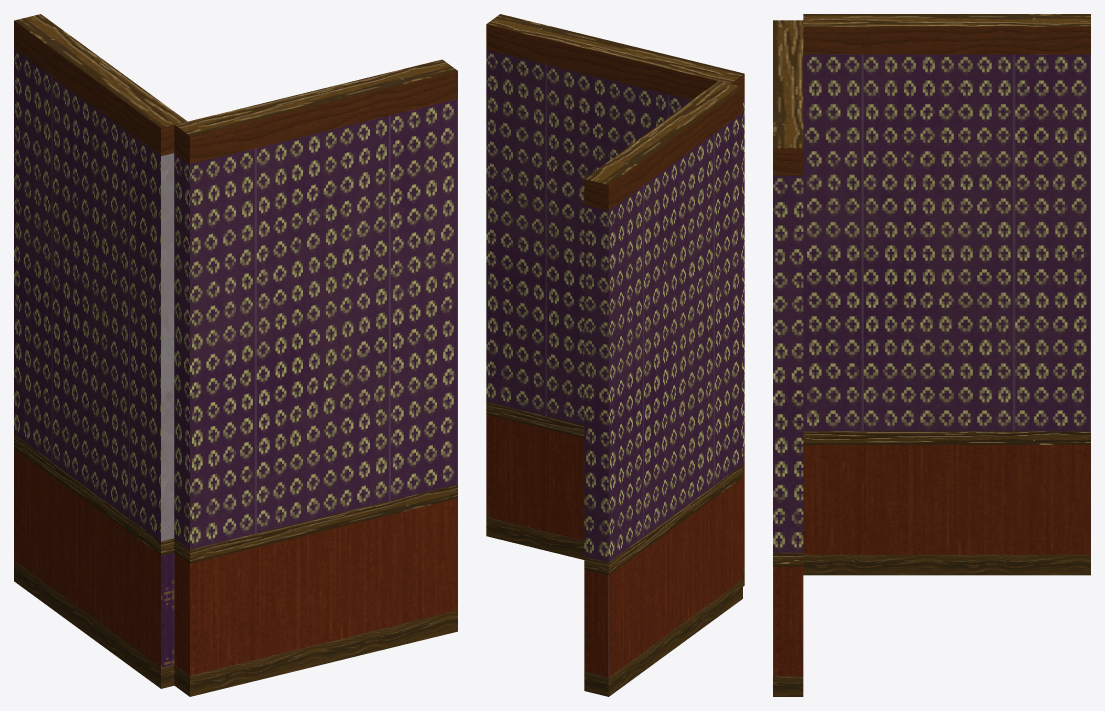
File: SM_Wall_T_Plaster.fbx
The picture shows the model from 3 angles, left to right: view 1: azimuth 30°, elevation 25°; view 2: azimuth 150°, elevation 25°; view 3: azimuth 270°, elevation 25°; orthographic projection. The views are drawn at different scales.
Parts seen in each view (by area): view 1: SM_Wall_T_Plaster; view 2: SM_Wall_T_Plaster; view 3: SM_Wall_T_Plaster.
Part boxes in pixels (x1,y1,x2,y2): SM_Wall_T_Plaster: (14,14,457,696); SM_Wall_T_Plaster: (486,14,744,696); SM_Wall_T_Plaster: (773,14,1090,696).
Bounding box in the file's own units: 2.1 × 4 × 2.1.
